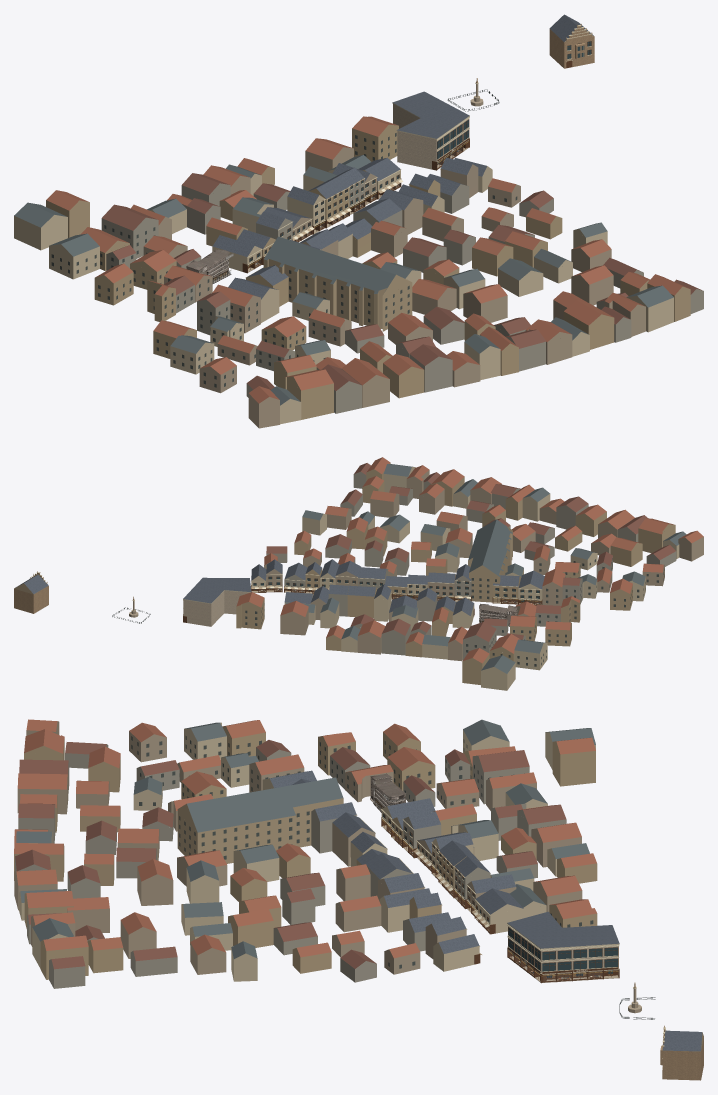
3 views of the same model, one above another, from view 1: azimuth 30°, elevation 25°; view 2: azimuth 150°, elevation 25°; view 3: azimuth 270°, elevation 25° (orthographic). The views are drawn at different scales.
Parts seen in each view (by area): view 1: C_1_0; view 2: C_1_0; view 3: C_1_0.
Boxes of the visible parts, <box> form: C_1_0: <box>14,14,703,428</box>; C_1_0: <box>14,457,703,690</box>; C_1_0: <box>14,719,703,1080</box>.
Size of the model in its own units: 256 by 19.36 by 223.
36 materials, 7 textured.
